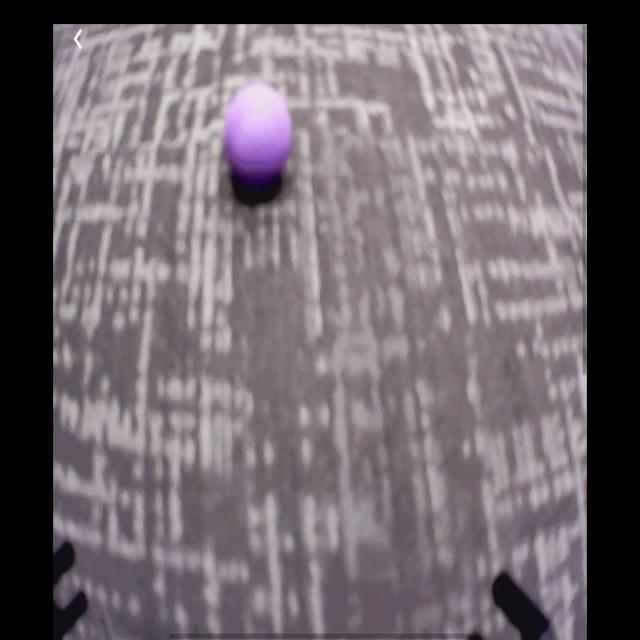ball: (225, 83, 294, 190)
